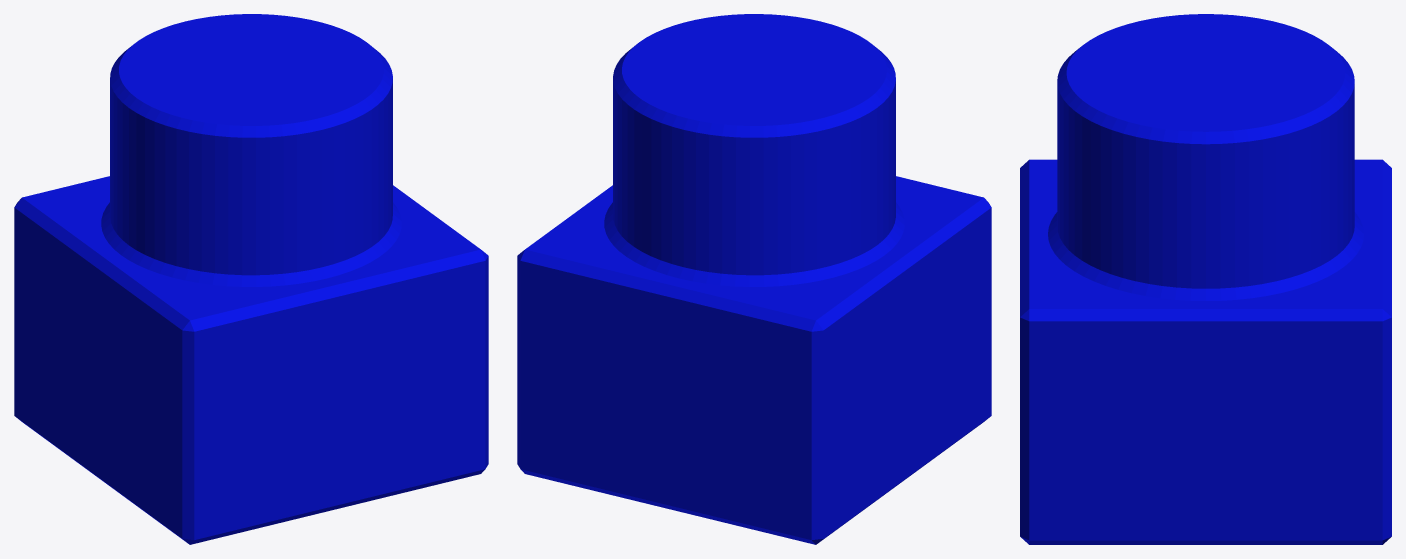
Rendered from lego_7.glb.
3 views of the same model, side by side, from view 1: azimuth 30°, elevation 25°; view 2: azimuth 150°, elevation 25°; view 3: azimuth 270°, elevation 25° (orthographic). The views are drawn at different scales.
Visible parts, largest first — view 1: Cube.008; view 2: Cube.008; view 3: Cube.008.
Boxes of the visible parts, left/top/right/bottom form: Cube.008: left=14, top=14, right=488, bottom=544; Cube.008: left=517, top=14, right=991, bottom=544; Cube.008: left=1020, top=14, right=1391, bottom=544.
Size of the model in its own units: 1 by 1.18 by 1.
